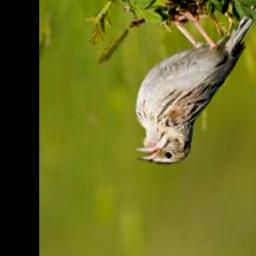Sparrow: (141, 0, 256, 166)
